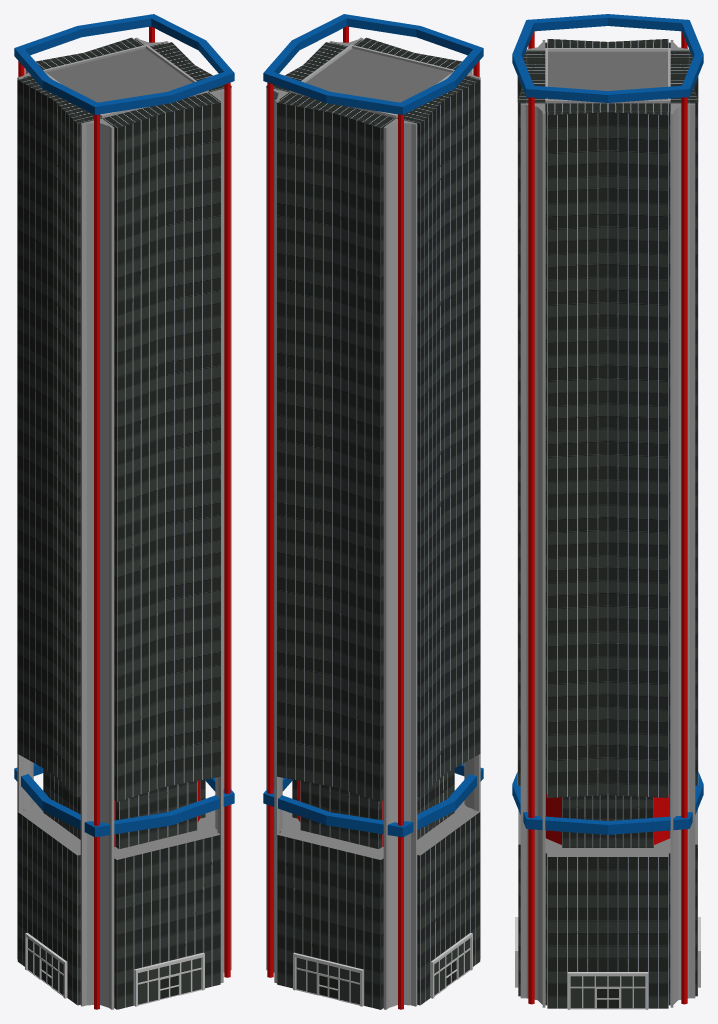
3 renders of one model, left to right at view 1: azimuth 30°, elevation 25°; view 2: azimuth 150°, elevation 25°; view 3: azimuth 270°, elevation 25°, orthographic.
Parts seen in each view (by area): view 1: EC-18; view 2: EC-18; view 3: EC-18.
Boxes of the visible parts, x1,y1,x2,y2 form: EC-18: (14,14,234,1009); EC-18: (263,14,483,1009); EC-18: (512,14,703,1009).
Size of what is drawn, in the model's own units: 20.59 by 109 by 20.59.
